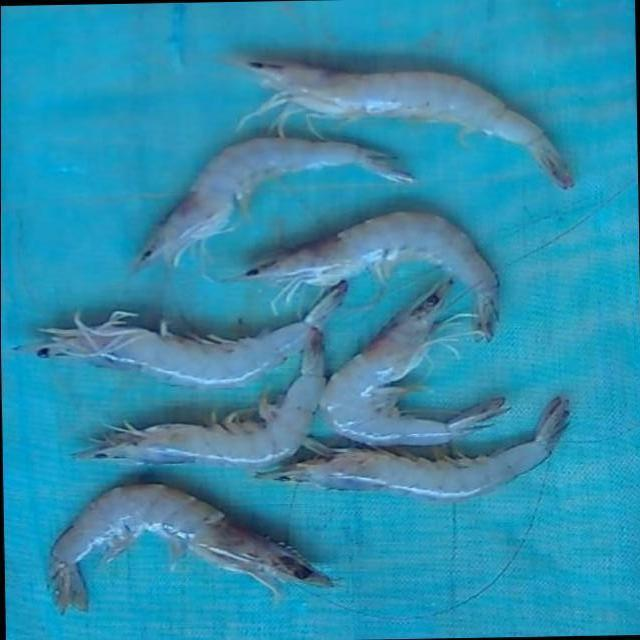shrimp: (246, 61, 574, 189), (136, 137, 413, 268), (50, 484, 332, 611), (18, 282, 347, 386), (76, 332, 324, 468), (242, 212, 499, 340), (257, 398, 569, 501), (320, 281, 506, 447)
